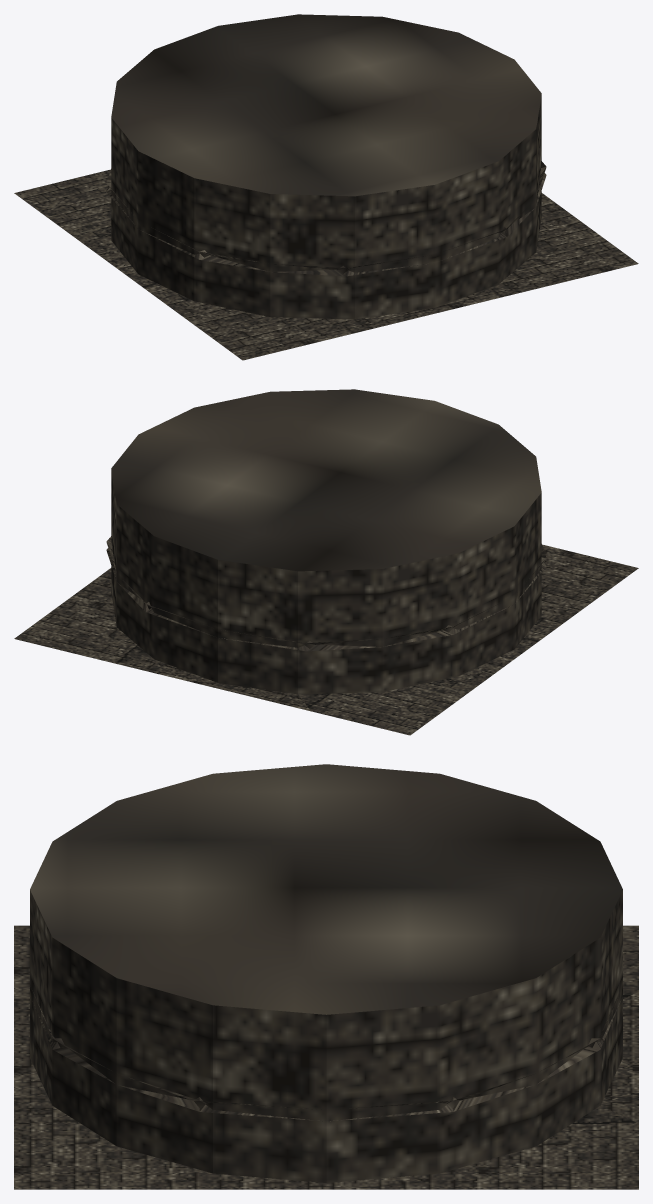
Rendered from SM_Dungeon_CeilingHole.fbx.
3 views of the same model, one above another, from view 1: azimuth 30°, elevation 25°; view 2: azimuth 150°, elevation 25°; view 3: azimuth 270°, elevation 25° (orthographic). The views are drawn at different scales.
Parts seen in each view (by area): view 1: Plane; view 2: Plane; view 3: Plane.
Part boxes in pixels (x1=…): Plane: x1=14, y1=14, x2=638, y2=360; Plane: x1=14, y1=389, x2=638, y2=735; Plane: x1=14, y1=764, x2=638, y2=1189.
Bounding box in the file's own units: 200 × 59.4 × 200.
